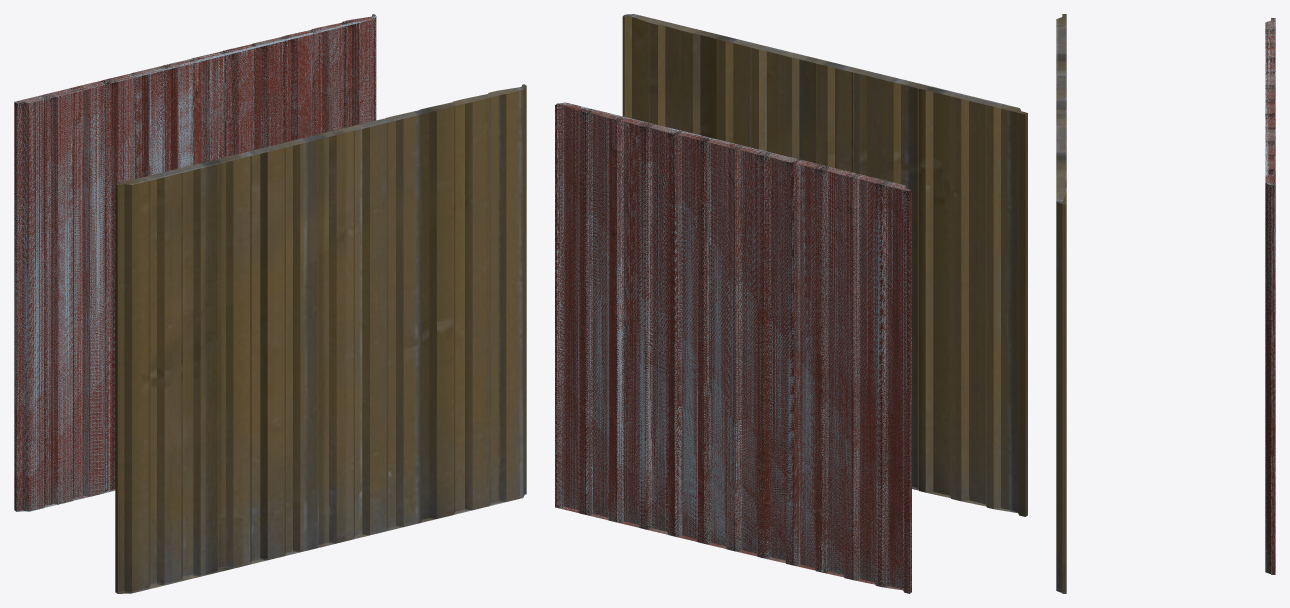
File: corrugate hole.fbx
3 views of the same model, side by side, from view 1: azimuth 30°, elevation 25°; view 2: azimuth 150°, elevation 25°; view 3: azimuth 270°, elevation 25° (orthographic). The views are drawn at different scales.
Visible parts, largest first — view 1: Group1, Group2; view 2: Group2, Group1; view 3: Group1, Group2.
Part boxes in pixels (x1=…): Group1: x1=115, y1=84, x2=526, y2=593; Group2: x1=14, y1=14, x2=376, y2=511; Group2: x1=555, y1=102, x2=911, y2=593; Group1: x1=622, y1=14, x2=1027, y2=516; Group1: x1=1056, y1=14, x2=1066, y2=593; Group2: x1=1265, y1=18, x2=1275, y2=574.
Bounding box in the file's own units: 89.5 × 85.42 × 43.53.
